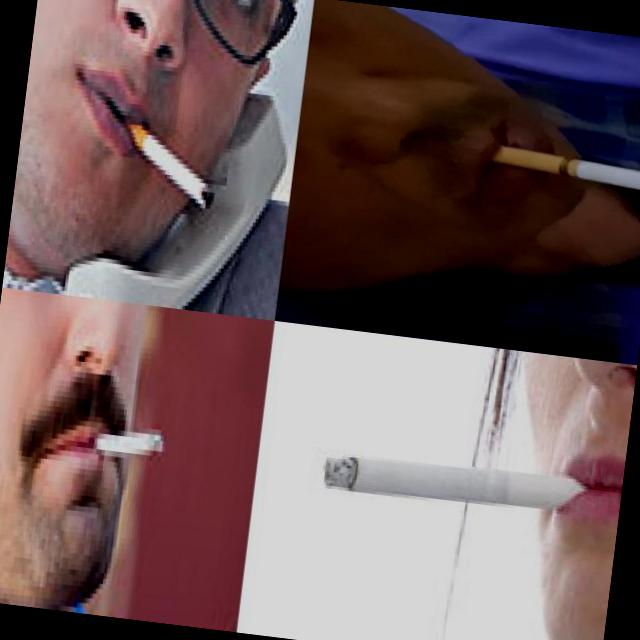cigarette: (322, 447, 588, 520), (119, 112, 225, 214), (487, 143, 640, 204), (91, 416, 162, 456)
